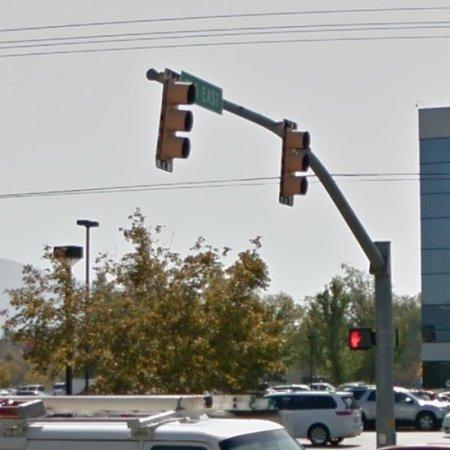traffic lights: (156, 70, 195, 171)
